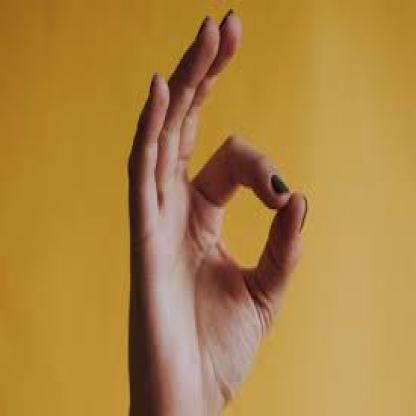ok: (124, 5, 312, 416)
